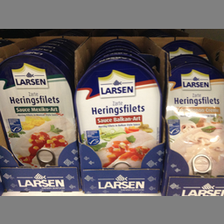fish: (72, 59, 161, 170), (1, 52, 76, 167), (166, 63, 224, 177)
